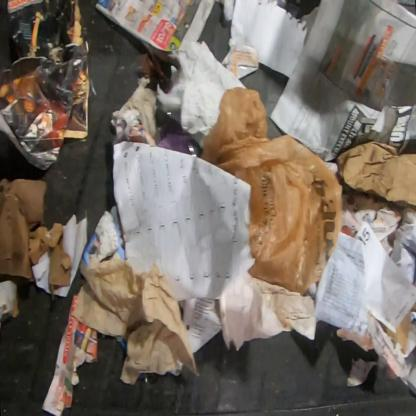rigid_plastic: (156, 122, 202, 158)
soft_plastic: (200, 86, 344, 297)
